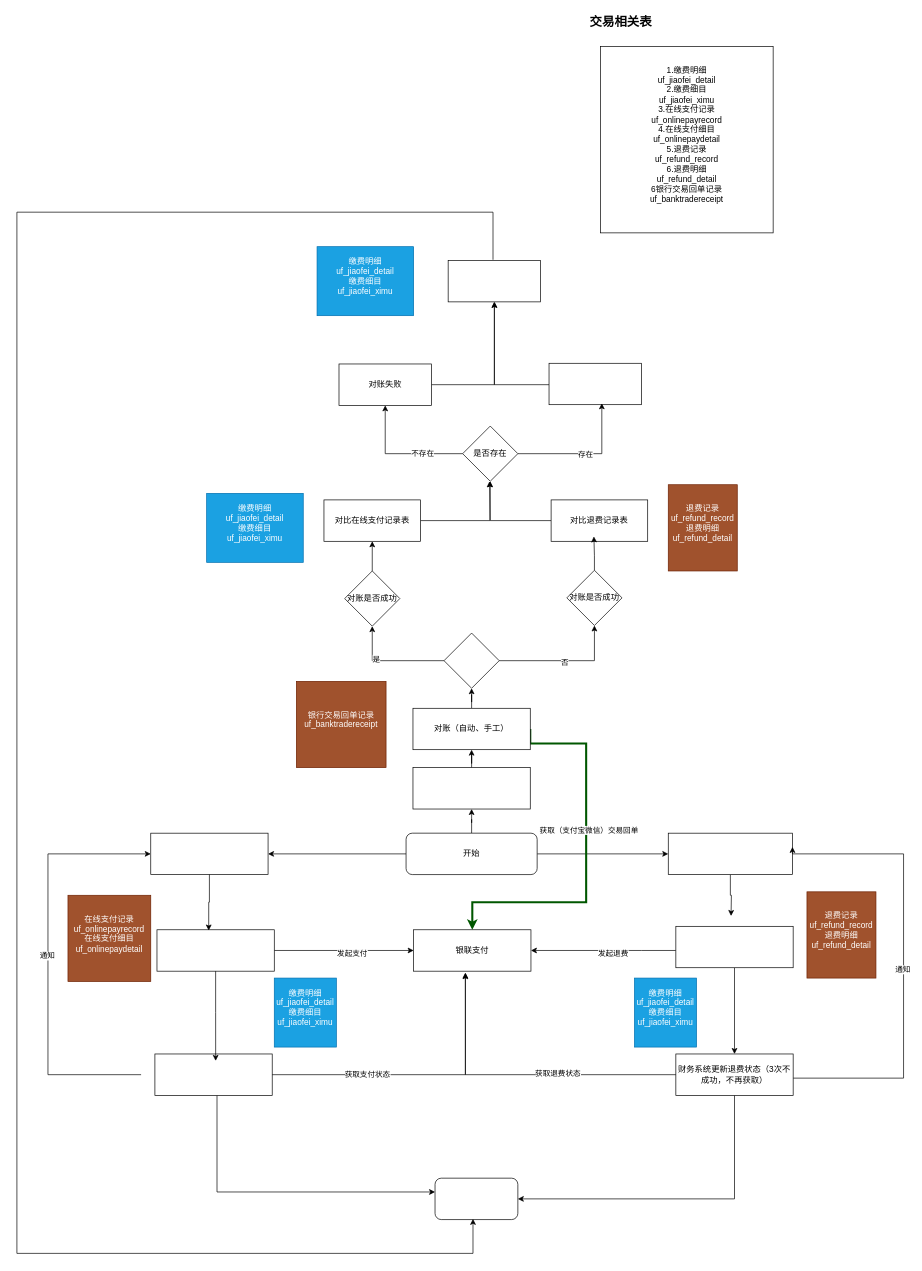
This 922x1271 diagram has some shape labels left out. The box of each missing label's shape, as (x1, y1, x2, y2) in pixels:
业务系统（学历认证、云招聘）发起支付: (150, 832, 268, 875)
业务系统（学历认证、云招聘）发起退费: (668, 832, 792, 875)
对账成功: (548, 363, 641, 405)
支付信息分类查询（标记收入账、来往账）: (447, 260, 541, 302)
是否有退费: (443, 632, 499, 688)
结束: (434, 1177, 518, 1220)
财务系统: (412, 767, 530, 809)
财务系统存储支付信息: (156, 929, 274, 971)
财务系统存储退费信息: (675, 926, 793, 968)
财务系统更新支付状态（已支付、未支付、支付关闭）: (154, 1053, 272, 1095)
